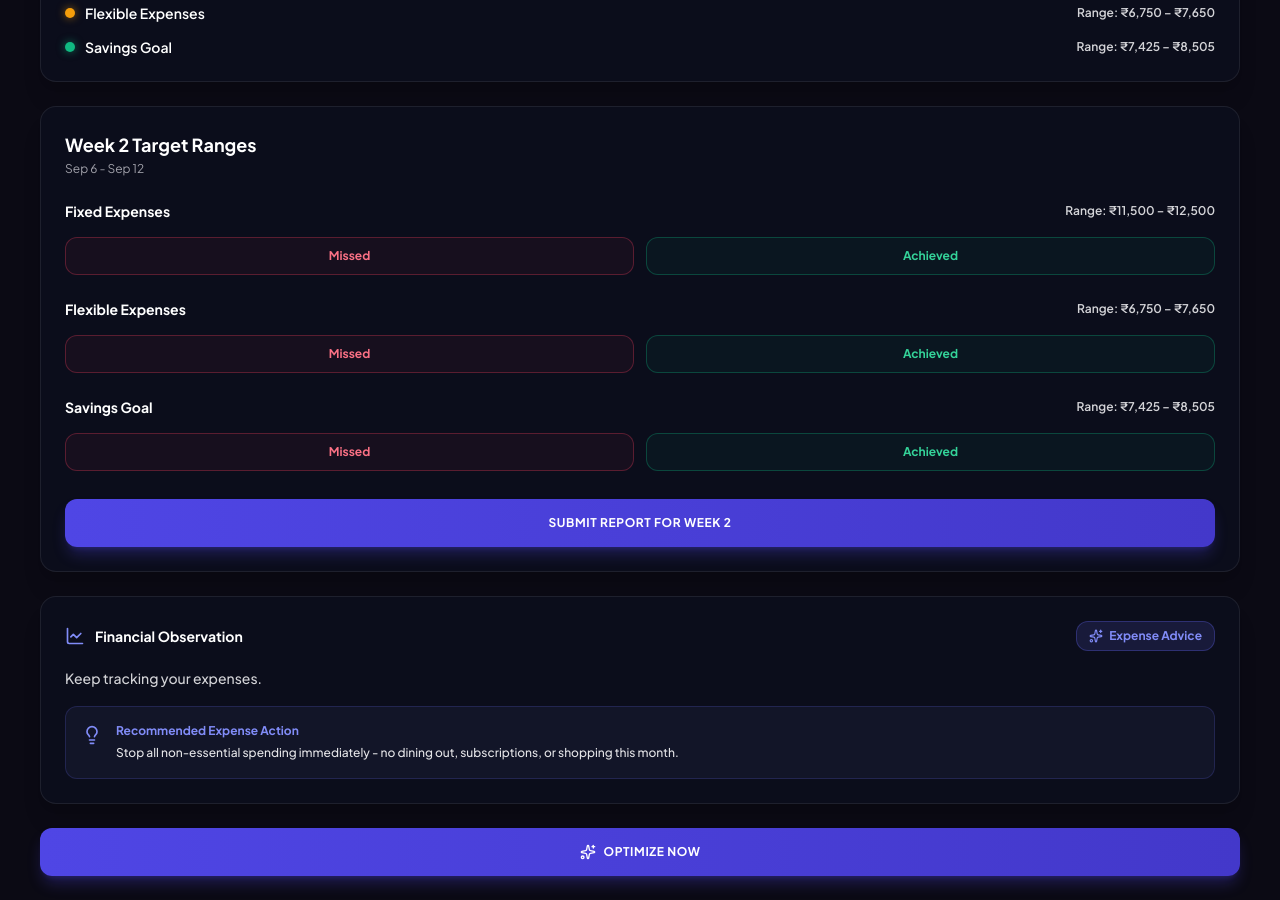
Test: Task 9: Weekly Expense Predictor Flutter Parity & Lock Behavior › opens and closes Expense Advisory modal via chip
(page scrolled)
Expected: the heading "Week 2 Target Ranges" is shown, [65,131,257,159]
Click the button with test id "expense-advice-chip".
click(1146, 636)  # box [1076,621,1215,651]
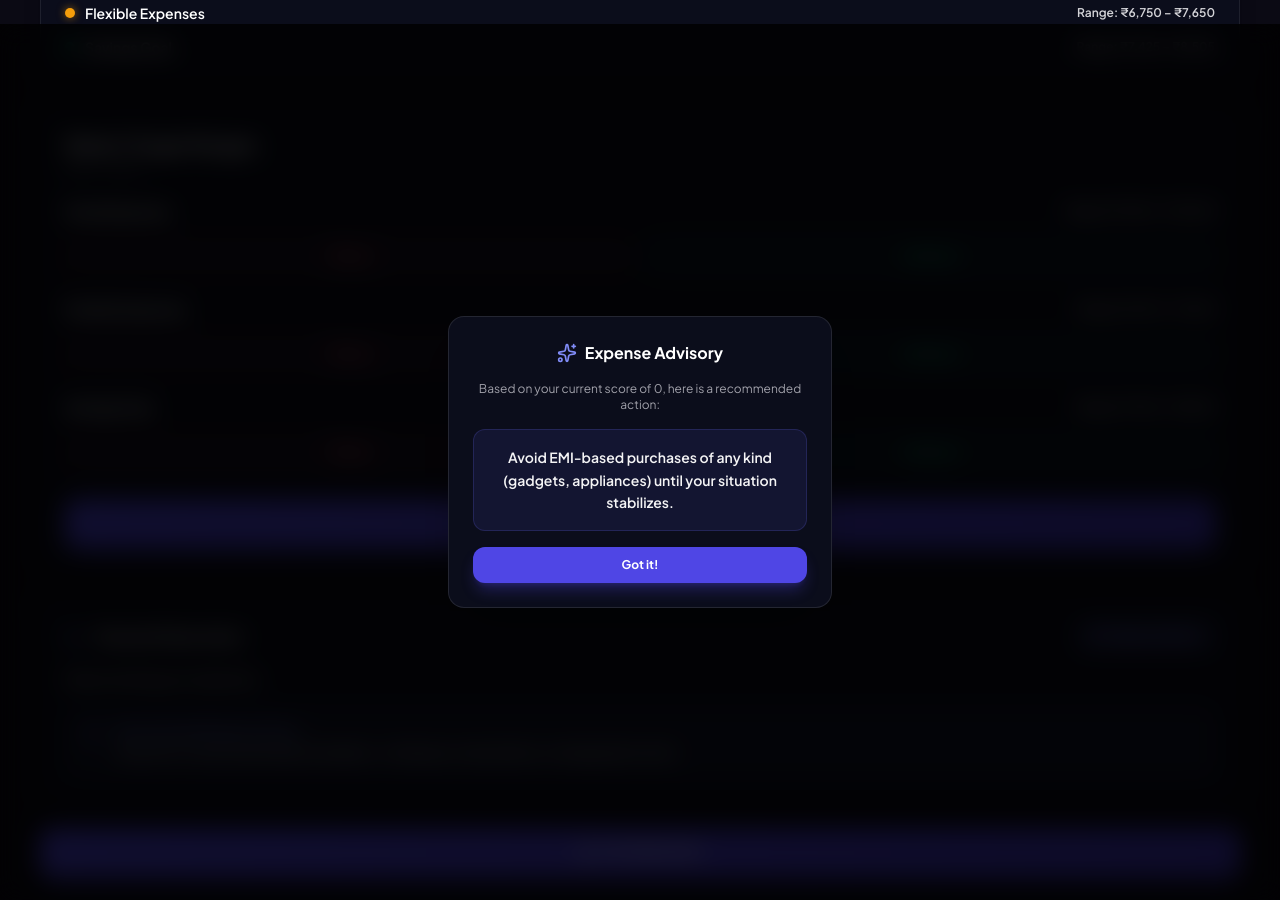
Result: the element with test id "expense-advisory-dialog" is shown
Result: the heading "Expense Advisory" is shown at [585,341,723,365]
Result: the text "Based on your current score" is shown at [479,381,654,396]
Click the button "Got it!".
click(640, 565)  # box [473,547,807,583]
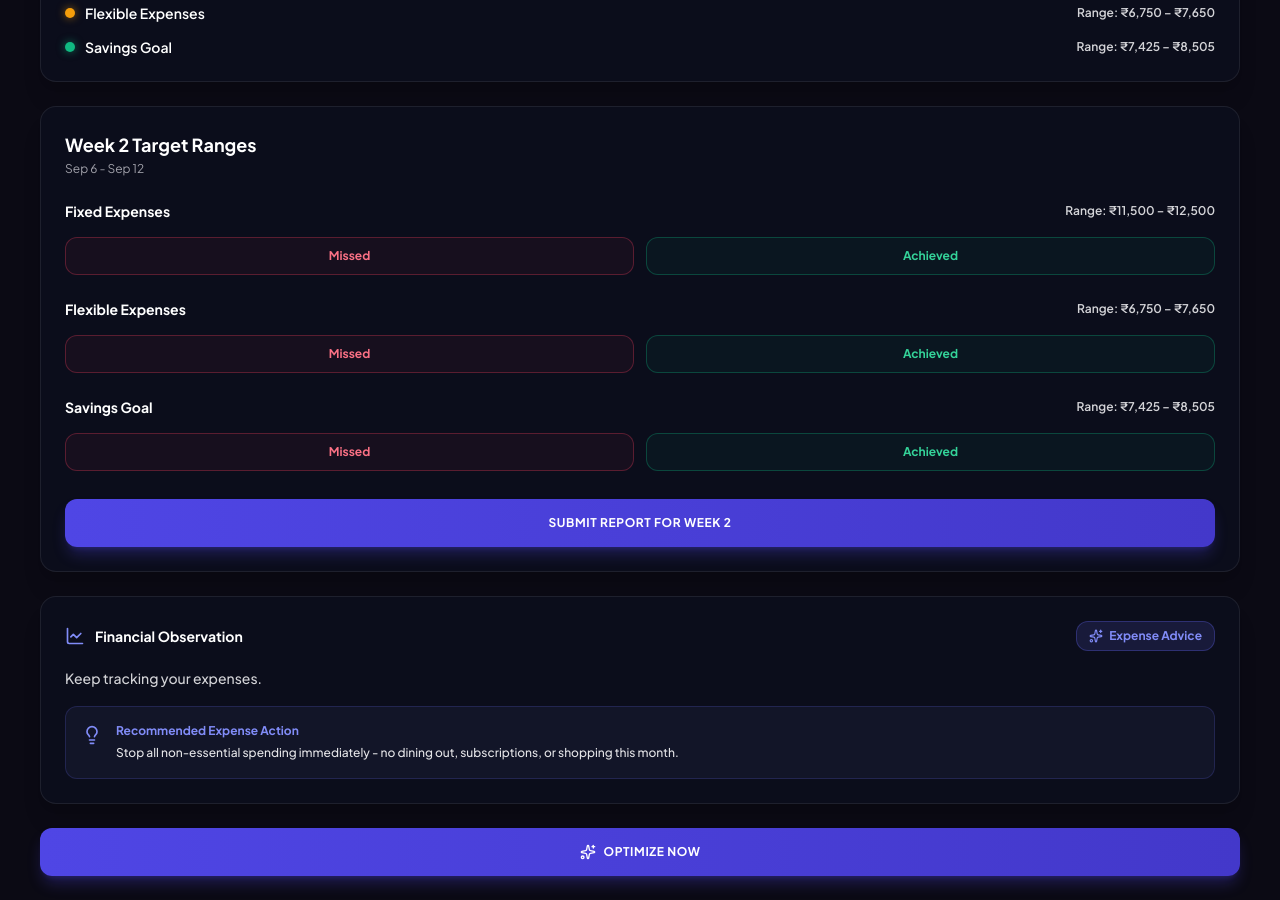
Result: the element with test id "expense-advisory-dialog" is gone
